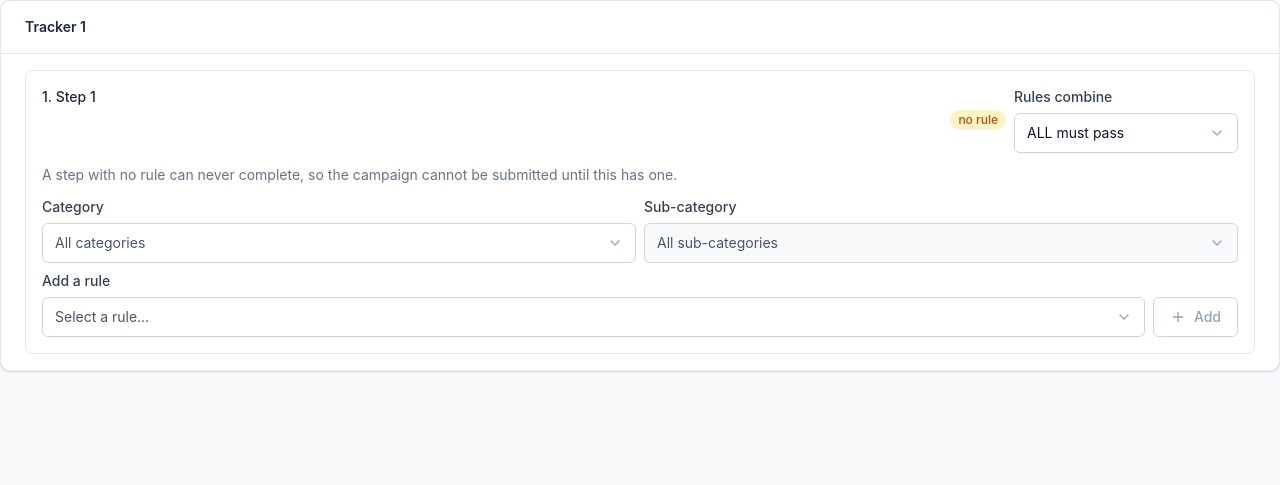
ComponentRulesStep — Add-a-rule category/sub-category filter (T-112) › the picker shows all rule options when no filter is applied
Click the dropdown named "add a rule" at [102, 316], box [42, 297, 1145, 337]
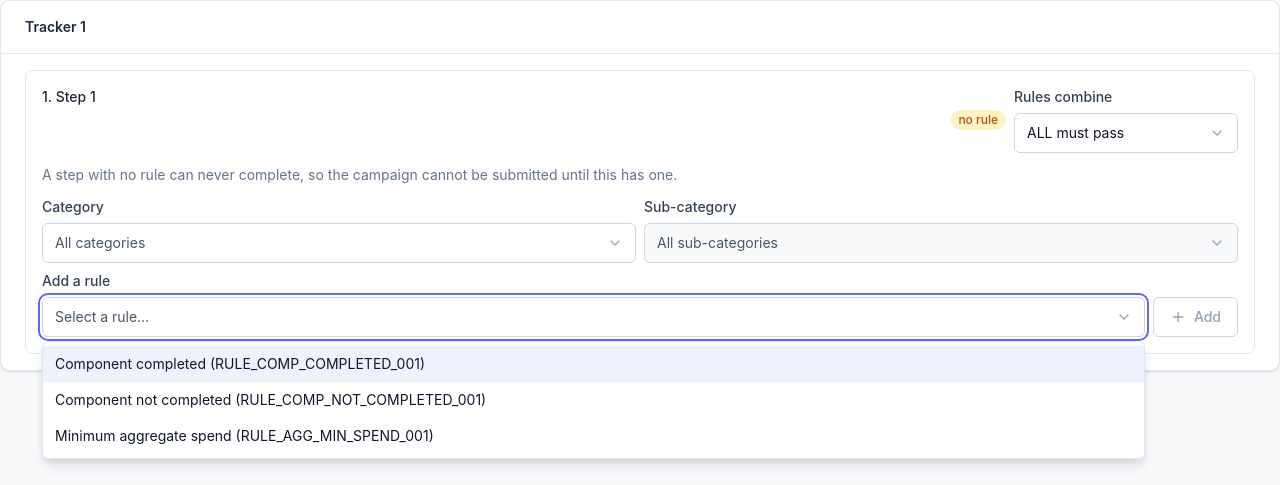
Check: the number of options is 3, box [43, 346, 1144, 382]; [55, 391, 486, 408]; [55, 427, 434, 444]
